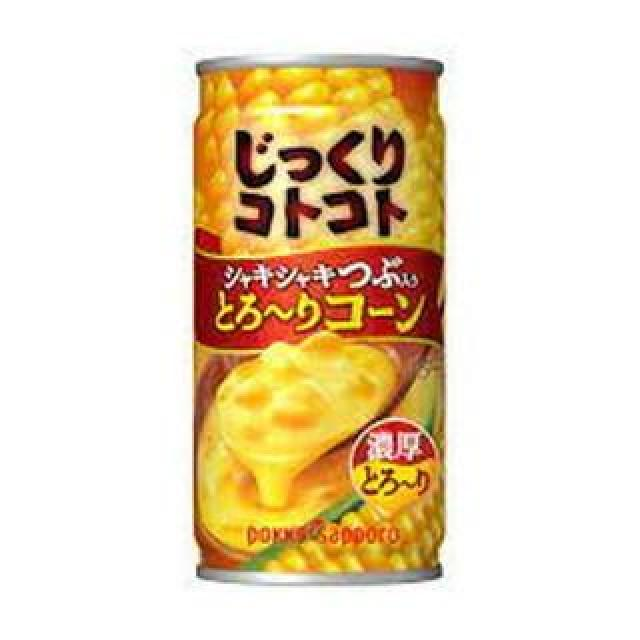metal: (187, 55, 448, 591)
